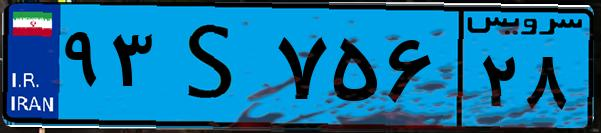2: (475, 38, 525, 113)
3: (110, 28, 158, 98)
5: (330, 28, 385, 110)
6: (385, 28, 445, 110)
7: (270, 28, 330, 110)
8: (525, 38, 570, 115)
9: (57, 26, 110, 100)
S: (158, 12, 270, 120)
